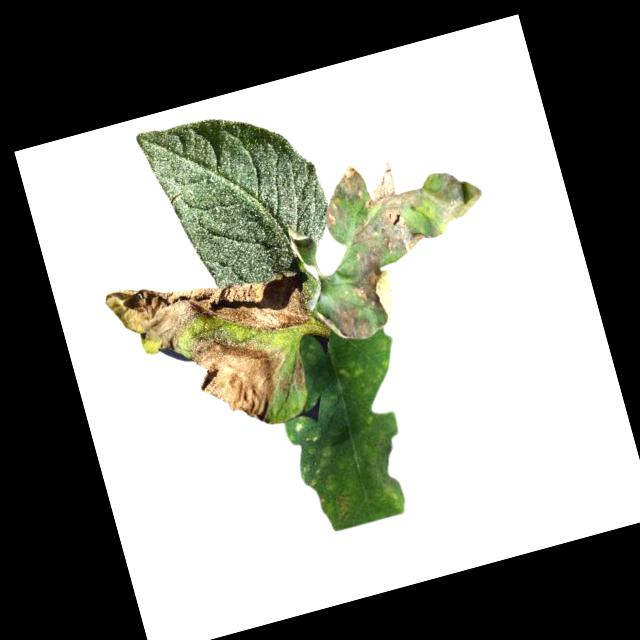Late_blight: (101, 241, 313, 374), (313, 132, 492, 267), (185, 317, 297, 435), (342, 241, 405, 329), (317, 289, 377, 349), (375, 472, 408, 517), (328, 490, 357, 524), (288, 357, 311, 392), (333, 357, 363, 383)
